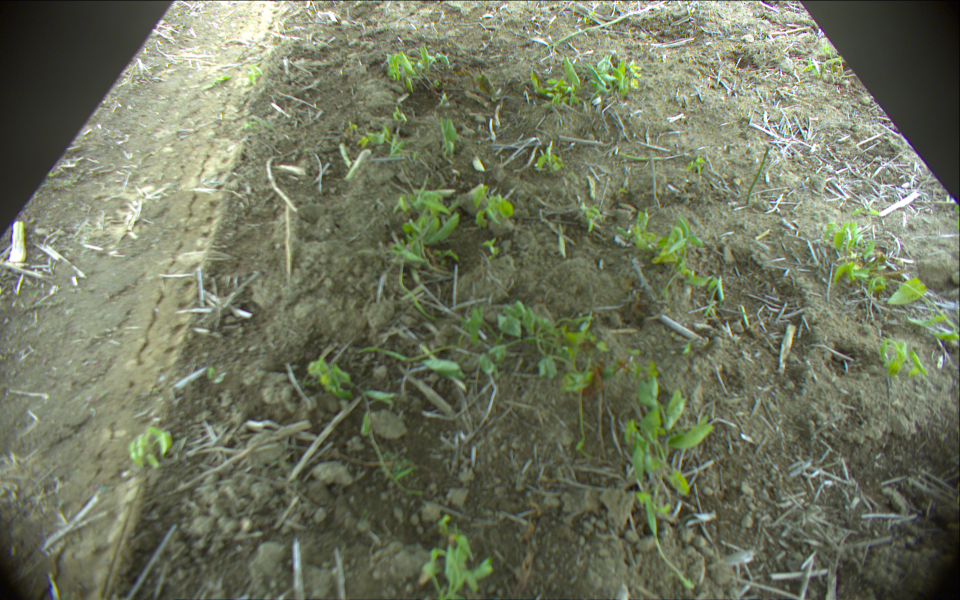aspa: (539, 1, 667, 56), (742, 146, 771, 206)
